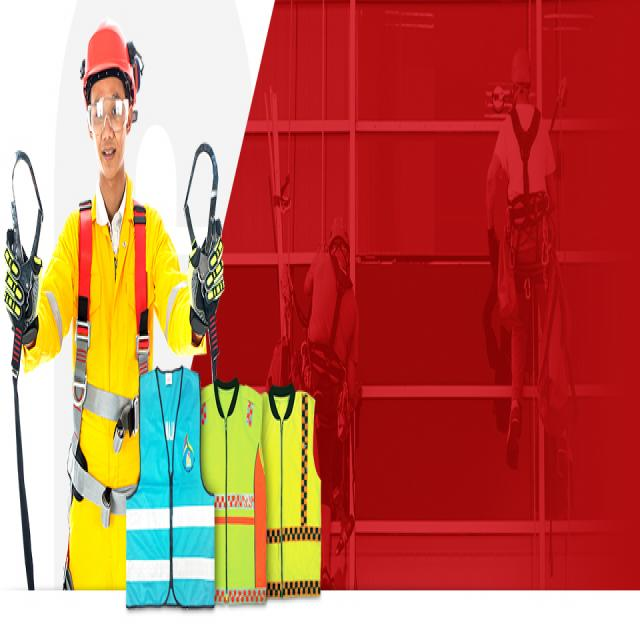Reflective-Jacket: (51, 192, 184, 536), (120, 365, 221, 613), (482, 102, 559, 325), (199, 380, 266, 582), (256, 387, 325, 581), (302, 254, 364, 448)
Safety-Helmet: (80, 18, 141, 91), (326, 205, 354, 258), (508, 40, 535, 91)
